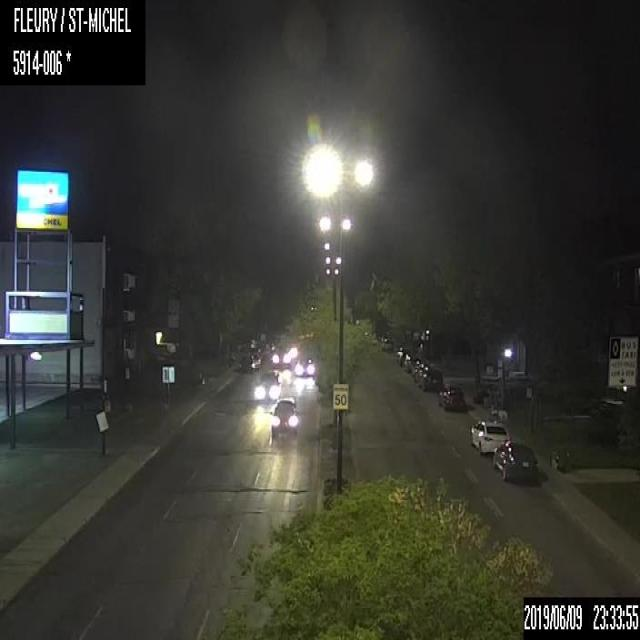vehicle: (491, 440, 539, 481), (469, 417, 508, 455), (270, 397, 298, 433), (252, 371, 280, 401), (436, 381, 465, 408), (238, 344, 261, 372), (421, 366, 444, 391), (293, 356, 317, 378), (269, 346, 292, 368), (381, 335, 394, 351)
